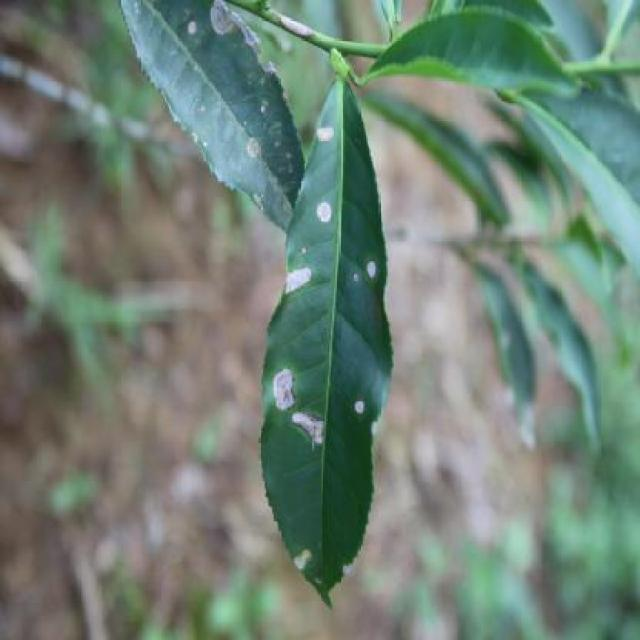Leaf rust of tea: (257, 68, 391, 603), (122, 0, 303, 263)
